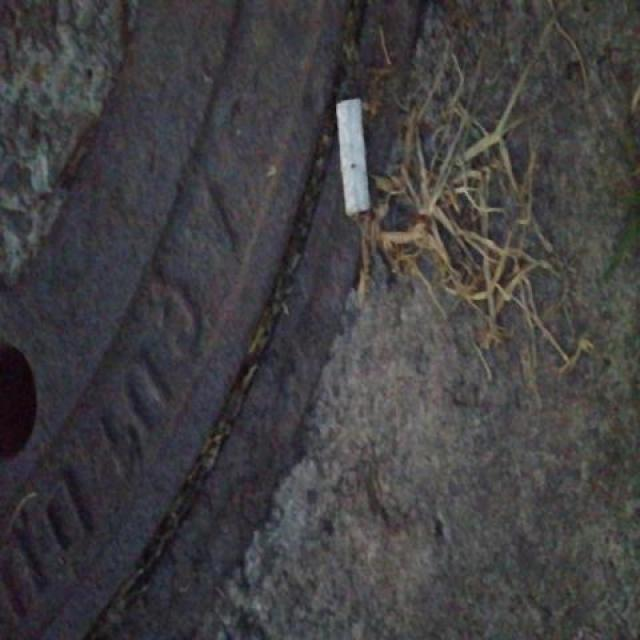non-organic waste: (331, 93, 377, 219)
